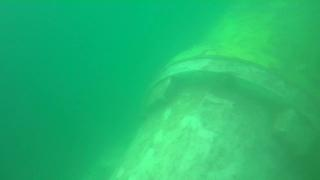pipe: (107, 1, 320, 179)
